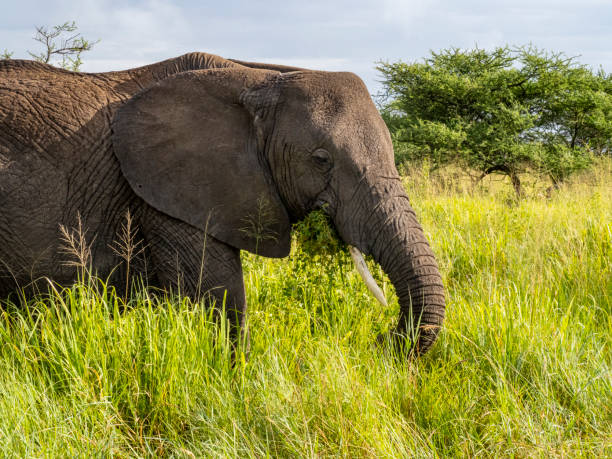africanelephant: (244, 71, 478, 341)
